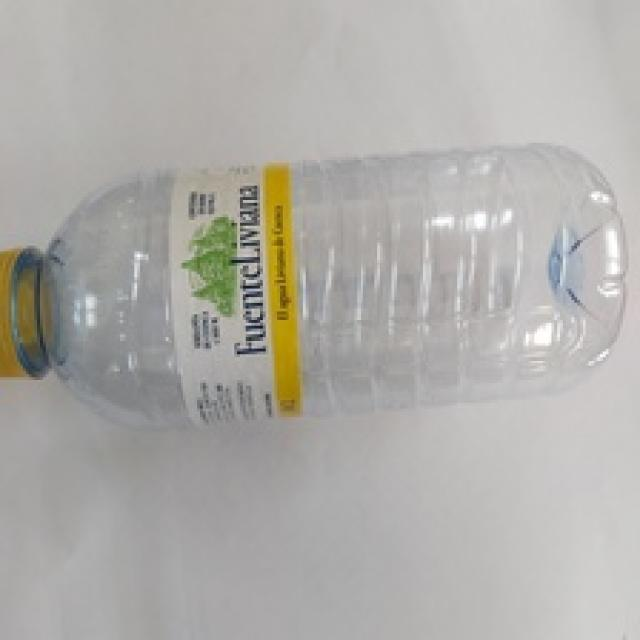Plastic: (0, 134, 626, 434)
